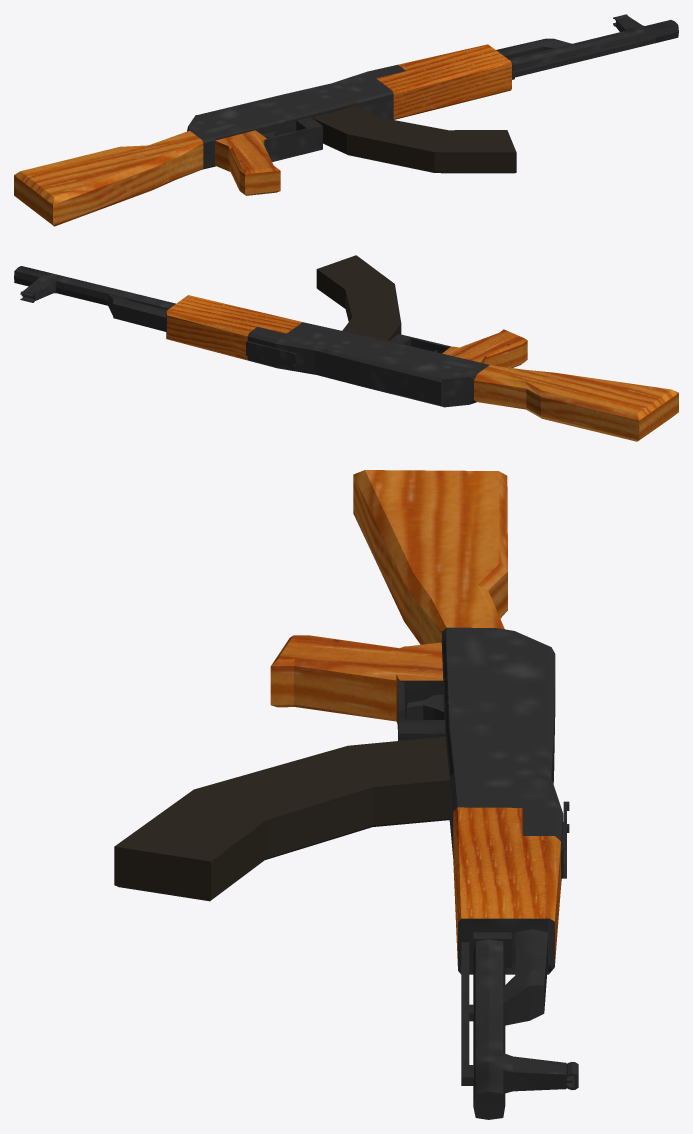
File: rifle-only.glb
The picture shows the model from 3 angles, top to bottom: view 1: azimuth 30°, elevation 25°; view 2: azimuth 150°, elevation 25°; view 3: azimuth 270°, elevation 25°; orthographic projection. The views are drawn at different scales.
Visible parts, largest first — view 1: mag; view 2: mag; view 3: mag.
Part boxes in pixels (left/top/right/bottom): mag: left=14, top=14, right=678, bottom=226; mag: left=14, top=255, right=678, bottom=441; mag: left=114, top=470, right=578, bottom=1119.
Size of the model in its own units: 1.46 by 0.0626 by 0.469.
1 material, 1 textured.
